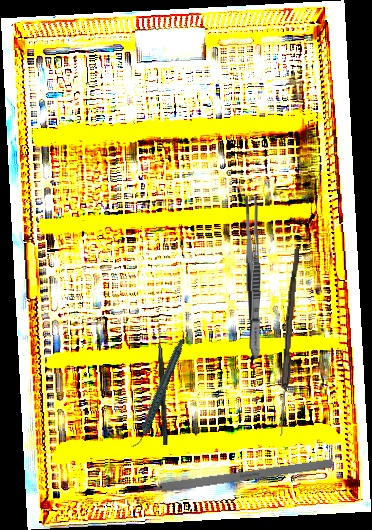Dressing Forceps: (242, 194, 264, 360)
Handpiece: (111, 337, 206, 451)
Hook Surgical: (122, 458, 333, 498), (154, 322, 170, 446)
Surgical Spoon: (277, 246, 300, 437)
